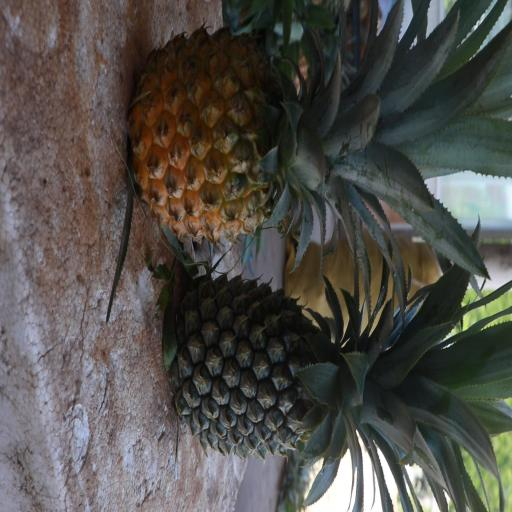Pineapple - v8 v1: (134, 36, 452, 234)
